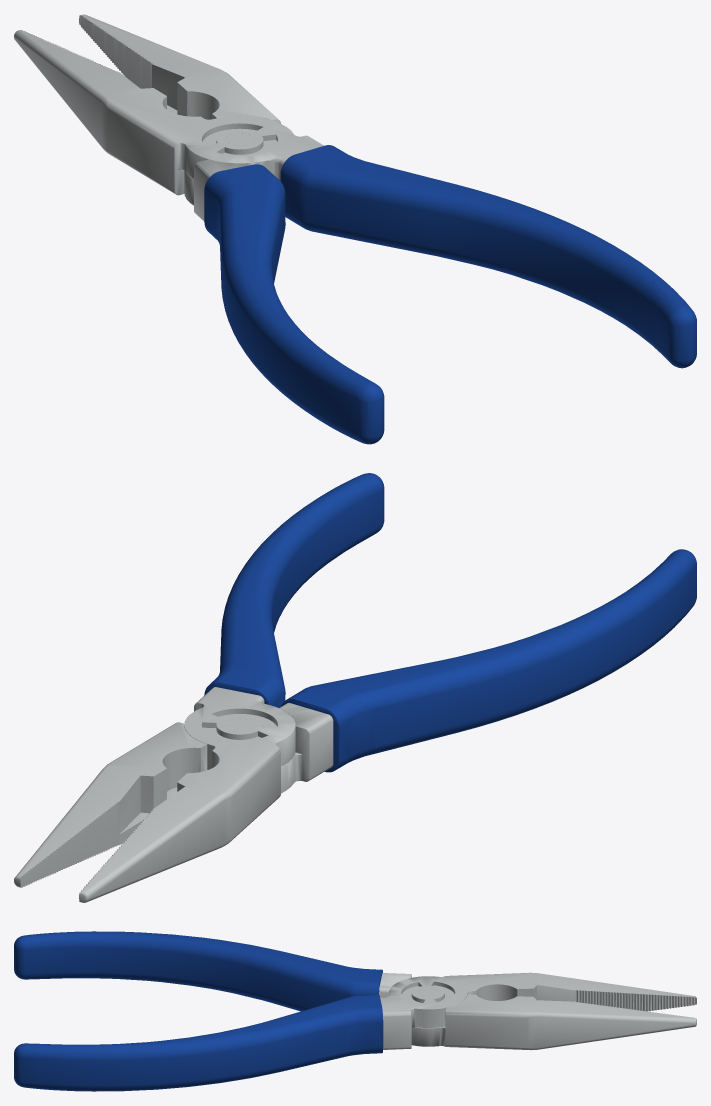
The model's file is 07-needle-nose plier.fbx.
3 renders of one model, top to bottom at view 1: azimuth 30°, elevation 25°; view 2: azimuth 150°, elevation 25°; view 3: azimuth 270°, elevation 25°, orthographic. The views are drawn at different scales.
Visible parts, largest first — view 1: needle-nose plier_B, needle-nose plier_A; view 2: needle-nose plier_A, needle-nose plier_B; view 3: needle-nose plier_B, needle-nose plier_A.
Part boxes in pixels (left/top/right/bottom): needle-nose plier_B: left=14, top=30, right=696, bottom=368; needle-nose plier_A: left=79, top=14, right=384, bottom=444; needle-nose plier_A: left=14, top=549, right=696, bottom=887; needle-nose plier_B: left=79, top=473, right=384, bottom=902; needle-nose plier_B: left=14, top=972, right=696, bottom=1091; needle-nose plier_A: left=14, top=931, right=696, bottom=1050.
Bounding box in the file's own units: 16.48 × 2.82 × 38.66.
1 material, 1 textured.
